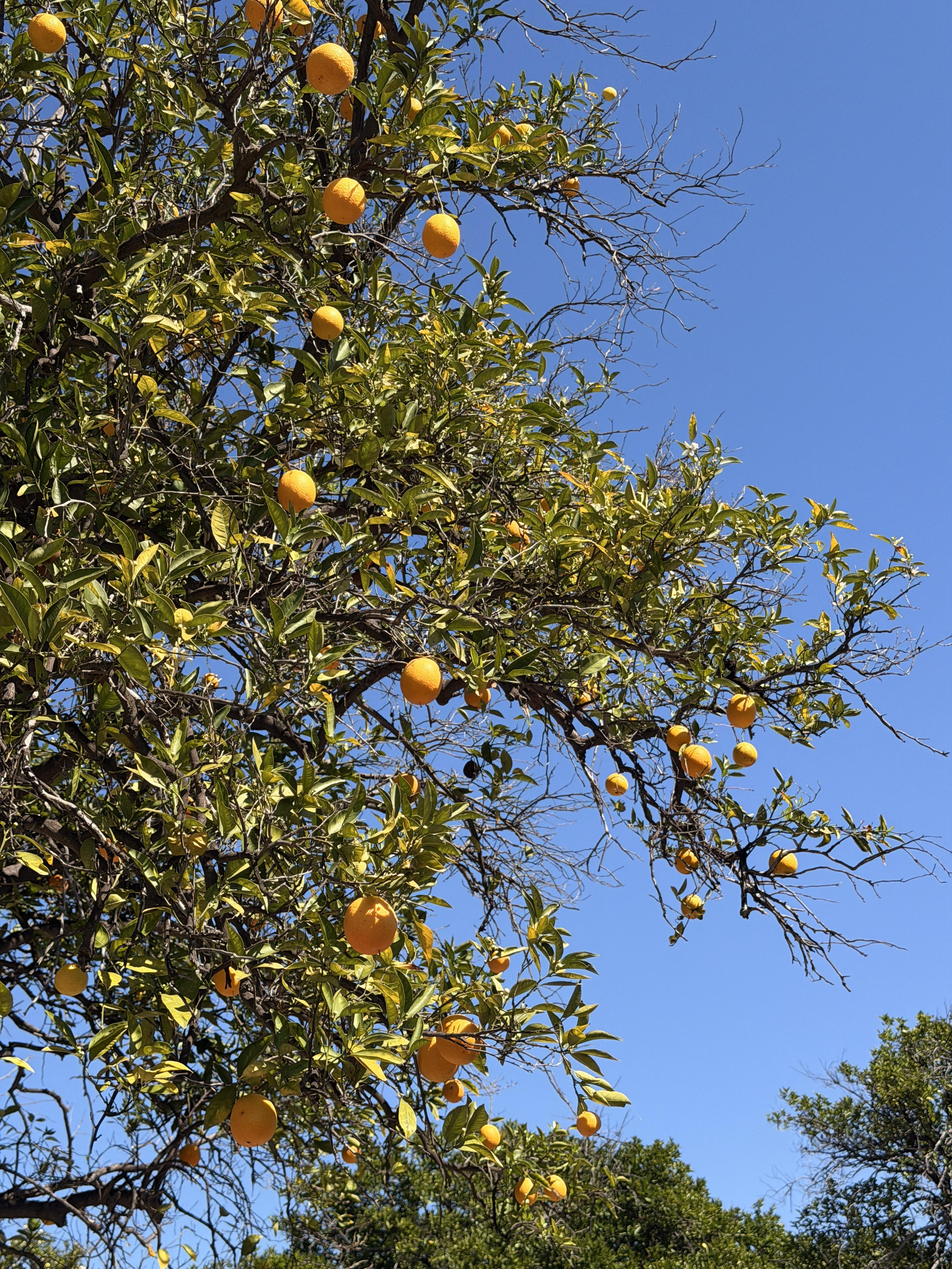orange: (343, 896, 398, 954), (306, 42, 354, 95), (230, 1093, 277, 1146), (437, 1016, 482, 1065), (322, 177, 365, 224), (401, 657, 441, 704), (415, 1039, 457, 1083), (277, 469, 316, 514), (422, 213, 460, 258), (245, 0, 283, 33), (54, 962, 88, 997), (312, 305, 343, 341), (681, 744, 712, 778), (726, 694, 756, 728), (212, 966, 241, 996), (768, 849, 798, 877), (394, 774, 421, 804), (666, 724, 693, 753), (99, 838, 129, 862), (674, 847, 700, 874), (576, 1110, 601, 1138), (514, 1177, 538, 1206), (357, 14, 382, 40), (543, 1174, 567, 1201), (732, 742, 757, 767), (604, 772, 628, 798), (464, 687, 491, 709), (681, 894, 704, 919), (178, 1142, 200, 1167), (318, 645, 340, 670), (480, 1123, 501, 1149), (443, 1079, 465, 1103), (488, 125, 512, 146), (559, 177, 580, 197), (488, 956, 510, 975), (341, 94, 354, 123), (407, 99, 422, 122), (515, 124, 534, 142), (342, 1144, 361, 1162), (49, 875, 68, 893), (290, 22, 312, 37), (202, 673, 219, 691), (602, 86, 618, 102)
